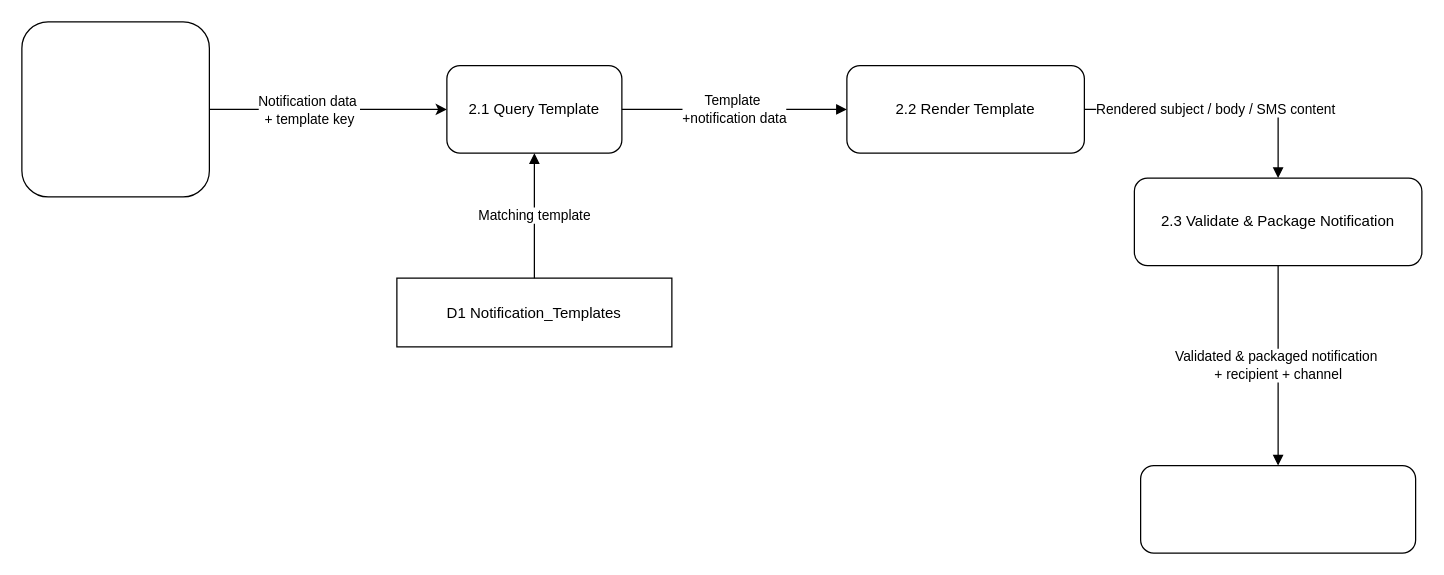
Image size: 1444x575. Some labels were removed from this diagram. Each missing label, with the centre of its shape:
"1.0 Receive Notification Request / Event" goes at (115,109).
"3.0 Send & Save History" goes at (1277,508).
